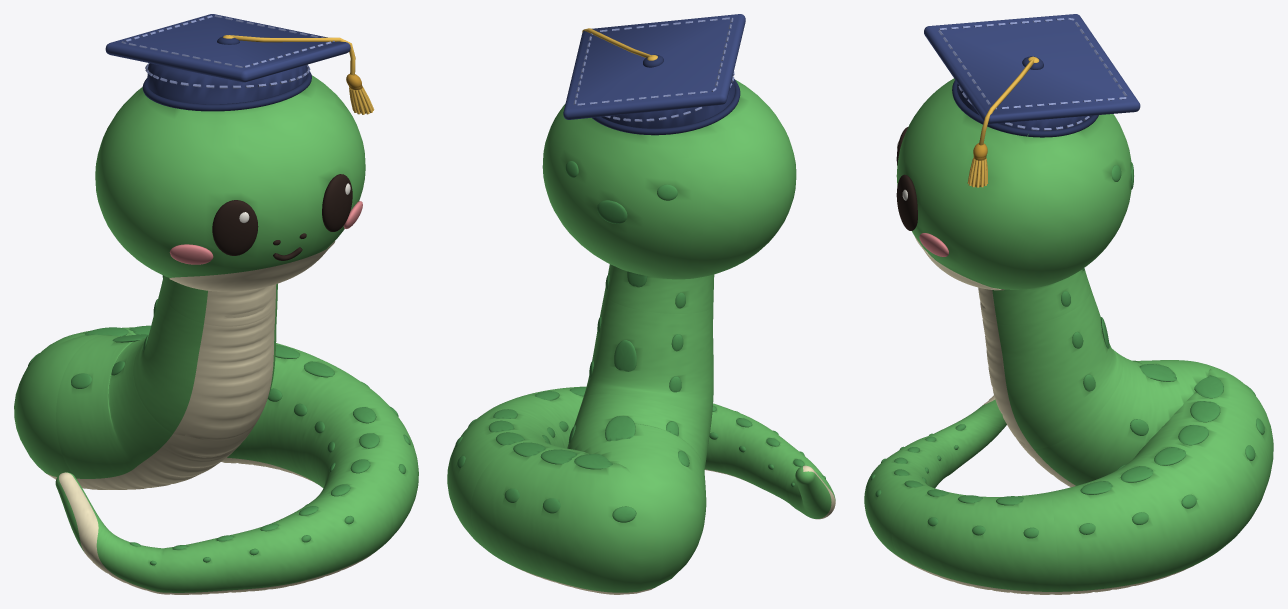
The model's file is pip.glb.
3 views of the same model, side by side, from view 1: azimuth 30°, elevation 25°; view 2: azimuth 150°, elevation 25°; view 3: azimuth 270°, elevation 25° (orthographic). The views are drawn at different scales.
Visible parts, largest first — view 1: pip_head, seg_03, seg_02, seg_07, seg_06, seg_08, seg_05, seg_04, seg_01; view 2: pip_head, seg_04, seg_02, seg_03, seg_05, seg_07, seg_01, seg_08, seg_06; view 3: pip_head, seg_05, seg_06, seg_02, seg_04, seg_03, seg_07, seg_01, seg_08.
Boxes of the visible parts, x1,y1,x2,y2 form: pip_head: (95, 14, 374, 291); seg_03: (56, 334, 252, 489); seg_02: (133, 285, 277, 457); seg_07: (214, 478, 393, 593); seg_06: (301, 390, 418, 543); seg_08: (55, 472, 222, 594); seg_05: (221, 343, 379, 483); seg_04: (14, 325, 150, 489); seg_01: (161, 275, 277, 326); pip_head: (542, 14, 796, 279); seg_04: (470, 441, 705, 594); seg_02: (583, 293, 713, 423); seg_03: (567, 394, 710, 514); seg_05: (447, 402, 564, 551); seg_07: (705, 403, 792, 489); seg_01: (604, 264, 714, 313); seg_08: (759, 445, 835, 519); seg_06: (497, 386, 586, 448); pip_head: (896, 14, 1140, 290); seg_05: (1050, 443, 1236, 594); seg_06: (891, 488, 1060, 594); seg_02: (980, 287, 1123, 449); seg_04: (1137, 360, 1273, 547); seg_03: (1016, 353, 1198, 487); seg_07: (864, 446, 939, 560); seg_01: (978, 268, 1090, 325); seg_08: (899, 395, 1006, 486).
Size of the model in its own units: 0.4502 by 0.6262 by 0.4787.
